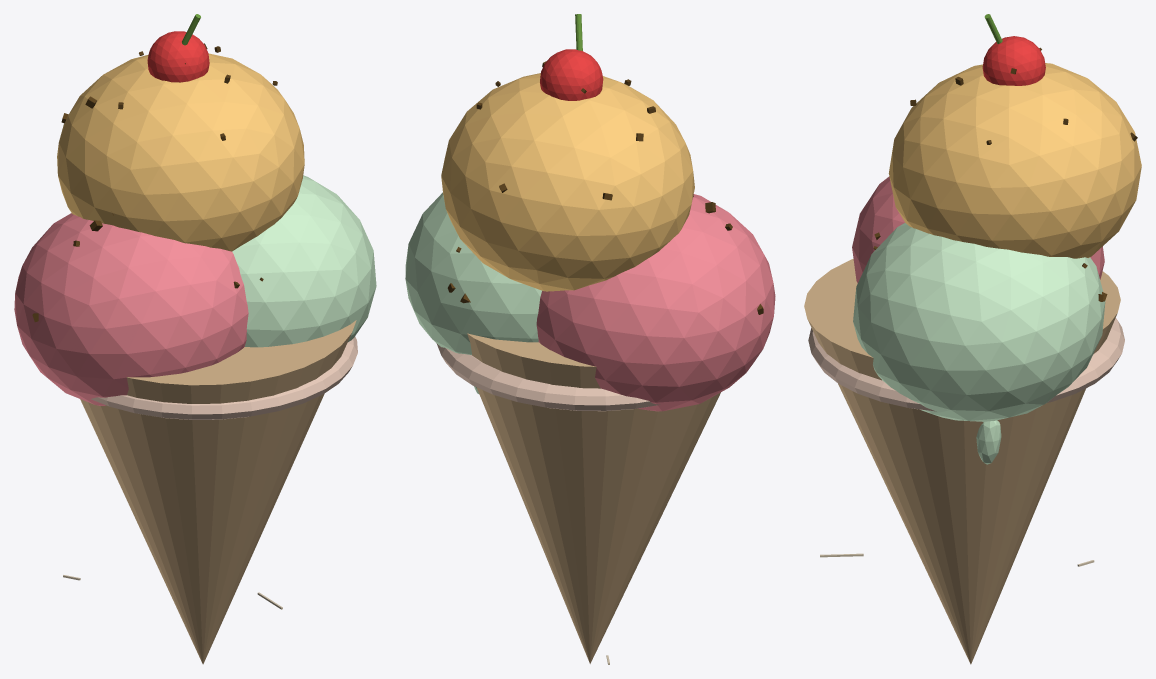
Rendered from gelatom.glb.
3 views of the same model, side by side, from view 1: azimuth 30°, elevation 25°; view 2: azimuth 150°, elevation 25°; view 3: azimuth 270°, elevation 25° (orthographic). The views are drawn at different scales.
Visible parts, largest first — view 1: Gelato_Cono, Mango, Fragola, Pistacchio, Riempimento_Base, Ciliegia; view 2: Mango, Gelato_Cono, Fragola, Pistacchio, Riempimento_Base, Ciliegia; view 3: Mango, Pistacchio, Gelato_Cono, Riempimento_Base, Fragola, Ciliegia, Goccia_Sciolta.014.
Part boxes in pixels (x1,y1,x2,y2): Gelato_Cono: (80,320,356,664); Mango: (57,53,304,251); Fragola: (14,213,248,405); Pistacchio: (232,175,376,347); Riempimento_Base: (91,336,357,419); Ciliegia: (147,31,209,82); Mango: (441,73,694,291); Gelato_Cono: (467,333,720,663); Fragola: (536,194,775,411); Pistacchio: (405,192,541,355); Riempimento_Base: (436,343,660,411); Ciliegia: (540,49,603,100); Mango: (888,63,1141,258); Pistacchio: (853,223,1105,421); Gelato_Cono: (804,259,1120,664); Riempimento_Base: (808,318,1124,411); Fragola: (852,176,1104,283); Ciliegia: (982,36,1045,85); Goccia_Sciolta.014: (976,420,1001,464).
Size of what is drawn, in the model's own units: 2.45 by 4.54 by 2.13.
